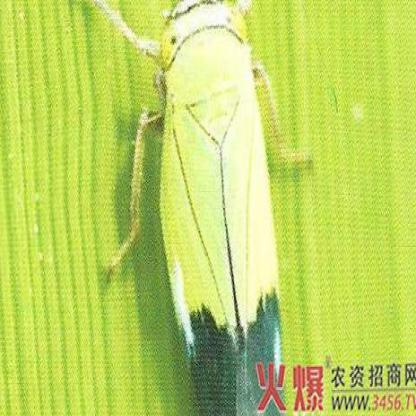green-leafhopper: (149, 0, 286, 416)
